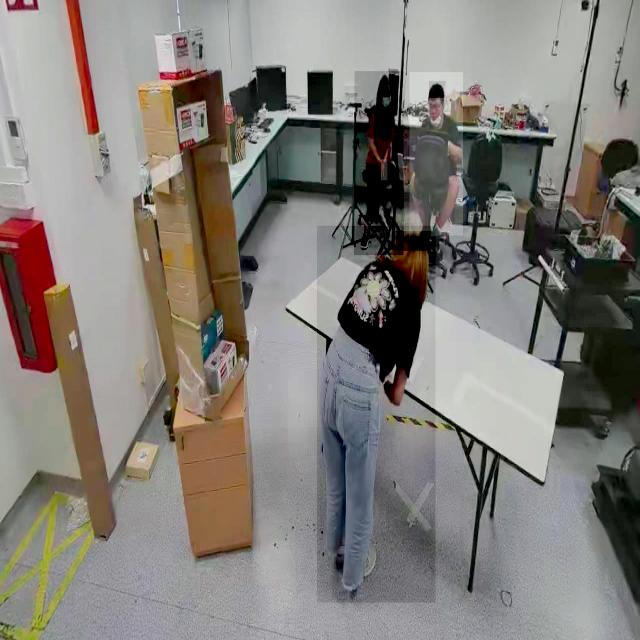face_mask: (381, 90, 392, 117)
hand_noglove: (380, 159, 388, 181), (410, 170, 416, 196), (380, 162, 386, 180)
head_nohelmet: (395, 231, 431, 252), (428, 81, 446, 99), (378, 73, 392, 88)
person: (316, 226, 436, 604), (354, 71, 404, 255), (409, 72, 463, 236)
shoes: (341, 540, 379, 591), (359, 222, 374, 252)
